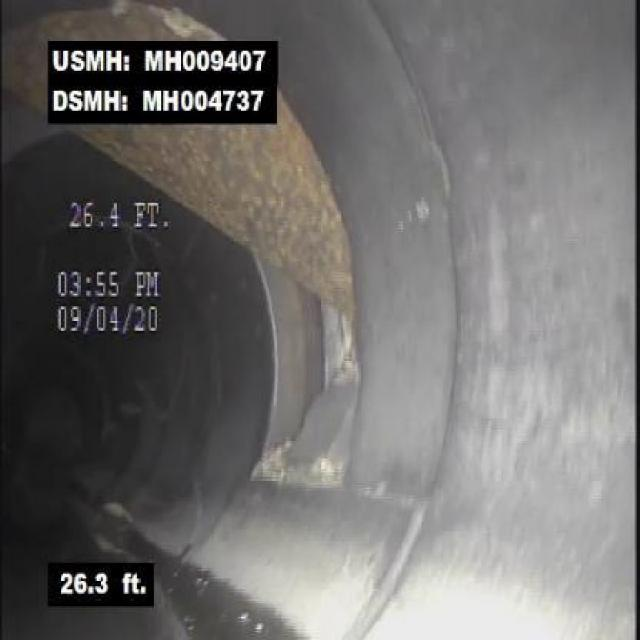Hole: (254, 312, 369, 496)
Utility intrusion: (178, 5, 370, 309)
